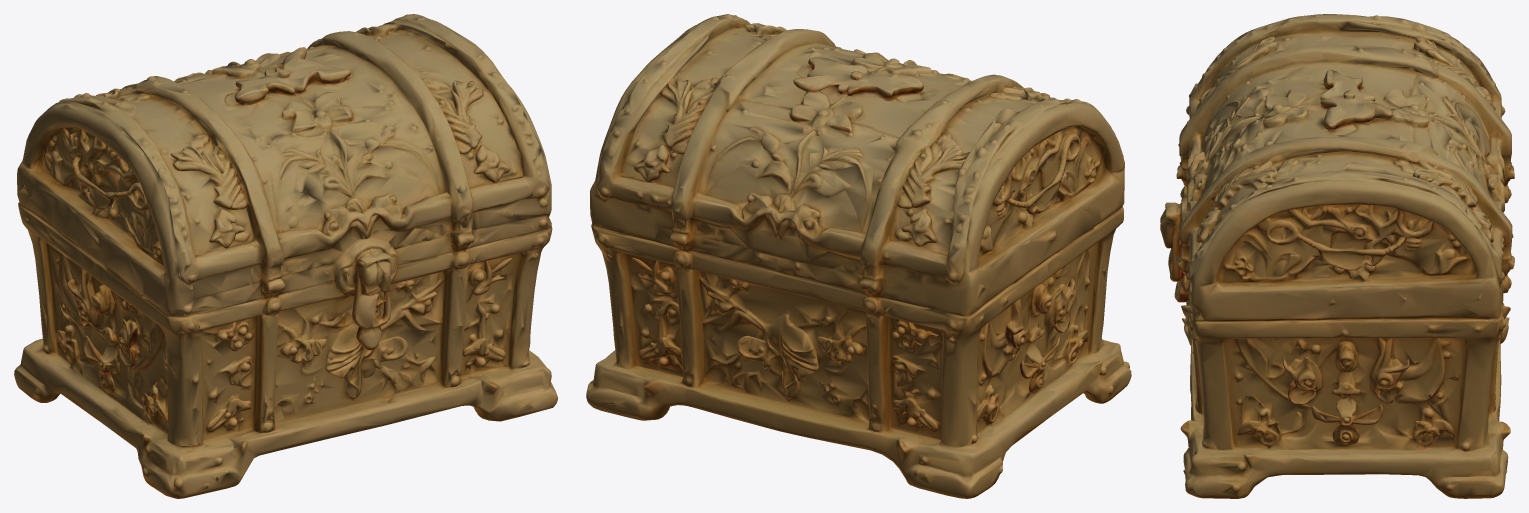
File: treasure_chest_20000.glb
3 views of the same model, side by side, from view 1: azimuth 30°, elevation 25°; view 2: azimuth 150°, elevation 25°; view 3: azimuth 270°, elevation 25° (orthographic). The views are drawn at different scales.
Visible parts, largest first — view 1: tripo_node_c44504cb-7550-48d3-87aa-481768aa088c; view 2: tripo_node_c44504cb-7550-48d3-87aa-481768aa088c; view 3: tripo_node_c44504cb-7550-48d3-87aa-481768aa088c.
Boxes of the visible parts, x1,y1,x2,y2 form: tripo_node_c44504cb-7550-48d3-87aa-481768aa088c: (14,14,557,498); tripo_node_c44504cb-7550-48d3-87aa-481768aa088c: (586,14,1131,498); tripo_node_c44504cb-7550-48d3-87aa-481768aa088c: (1160,14,1514,498).
Size of the model in its own units: 0.9791 by 0.7703 by 0.7793.
Materials: 1 (1 with a texture image).
